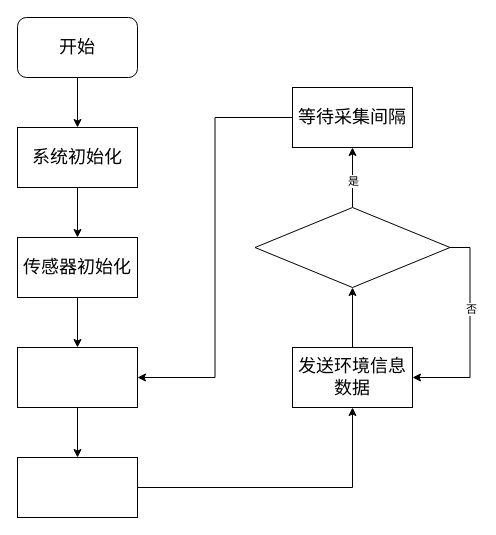
This 496x535 diagram has some shape labels left out. The centre of each missing label's shape, as x and y in pixels:
"数据发送成功" goes at [352,247].
"数据处理" goes at [77,487].
"读取环境信息数据" goes at [77,377].
